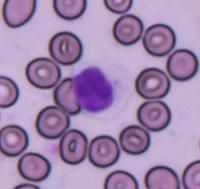L: (70, 62, 132, 118)
